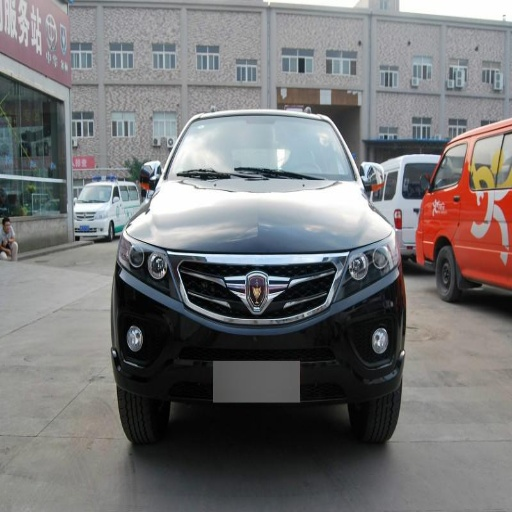front_bumper: (115, 248, 401, 402)
front_right_light: (119, 234, 169, 290)
hood: (129, 180, 392, 254)
